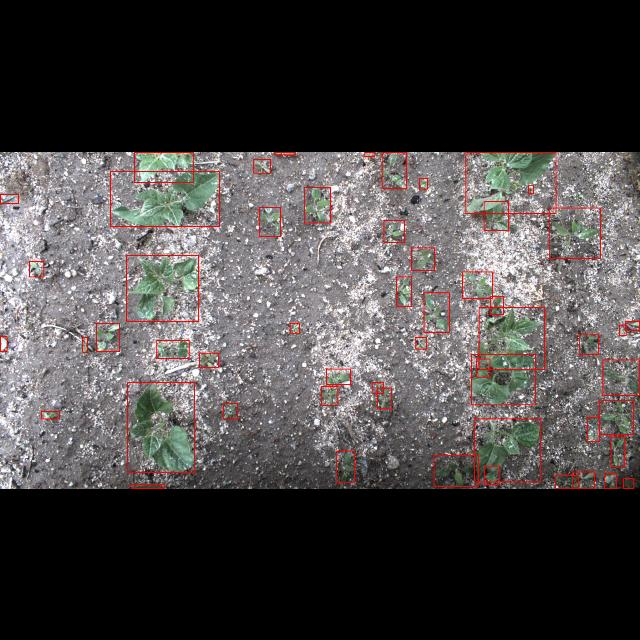crop: (110, 170, 220, 226), (128, 382, 195, 472), (466, 152, 556, 212), (127, 255, 199, 321), (474, 418, 540, 482), (479, 307, 545, 369), (471, 354, 535, 404), (134, 151, 193, 181), (484, 200, 508, 230), (157, 340, 189, 358), (484, 466, 500, 484), (130, 484, 163, 488)
weed: (550, 207, 600, 257), (434, 456, 478, 486), (603, 359, 639, 395), (600, 400, 634, 434), (424, 292, 450, 332), (305, 186, 331, 222), (382, 151, 406, 187), (463, 270, 493, 298), (96, 323, 120, 351), (259, 207, 281, 236), (336, 451, 354, 483), (412, 247, 434, 270), (396, 276, 412, 306), (384, 220, 404, 242), (611, 436, 625, 466), (579, 334, 599, 354), (326, 368, 350, 384), (573, 472, 595, 488), (376, 388, 392, 408), (556, 474, 578, 488), (200, 352, 218, 368), (322, 386, 338, 404), (587, 417, 599, 441), (490, 296, 504, 314), (476, 358, 490, 376), (253, 158, 270, 172), (30, 260, 44, 276), (223, 404, 237, 418), (0, 193, 18, 203), (604, 474, 616, 488), (41, 411, 59, 419), (625, 320, 639, 330), (416, 337, 426, 349), (372, 382, 384, 392), (622, 478, 634, 488), (290, 322, 300, 332), (1, 336, 8, 350), (82, 336, 88, 352), (420, 178, 428, 188), (620, 324, 626, 336), (528, 185, 534, 193), (275, 152, 295, 154), (365, 151, 375, 155)
